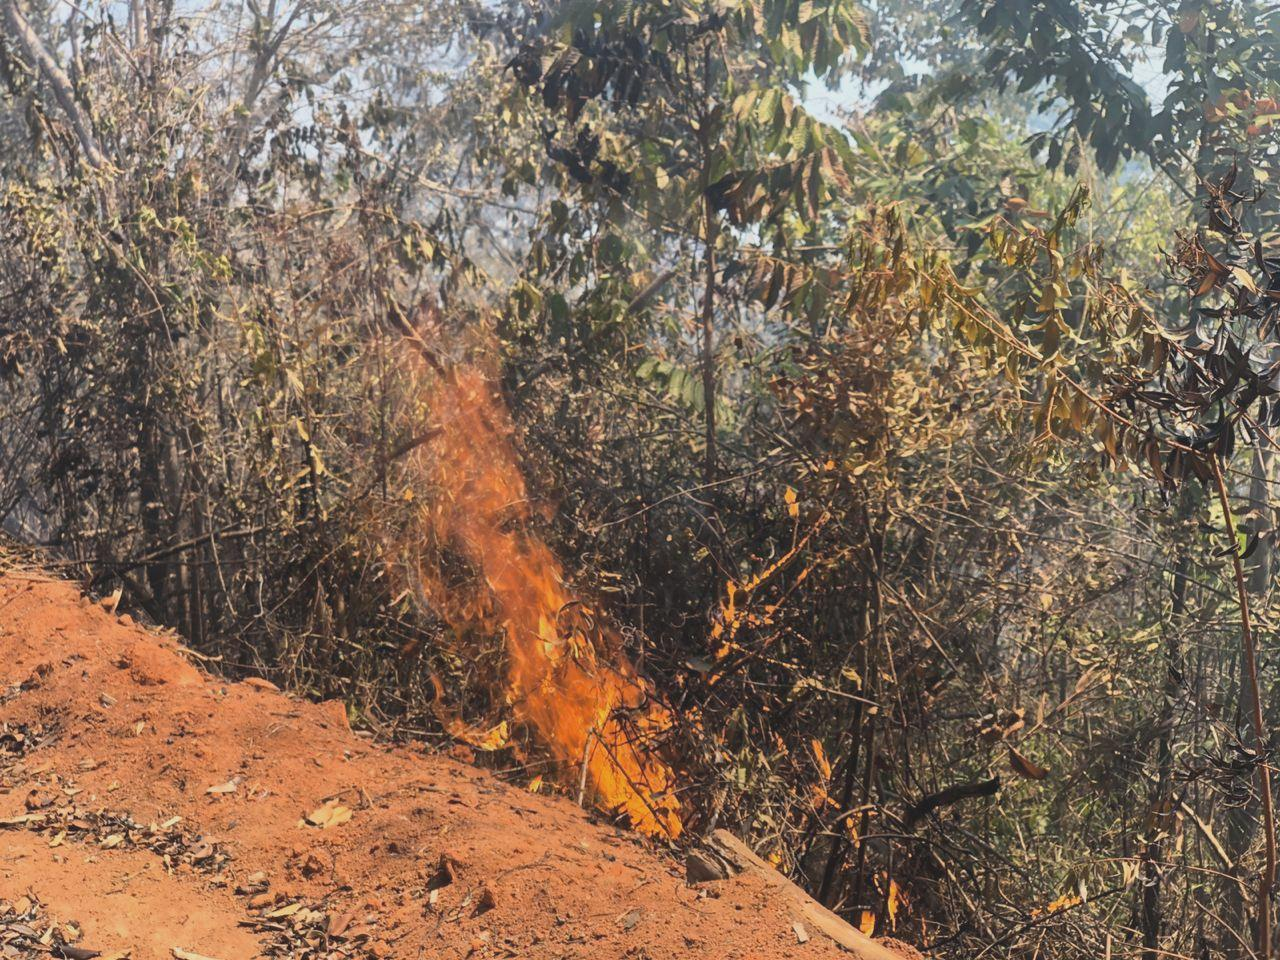Fire: (409, 365, 708, 843)
